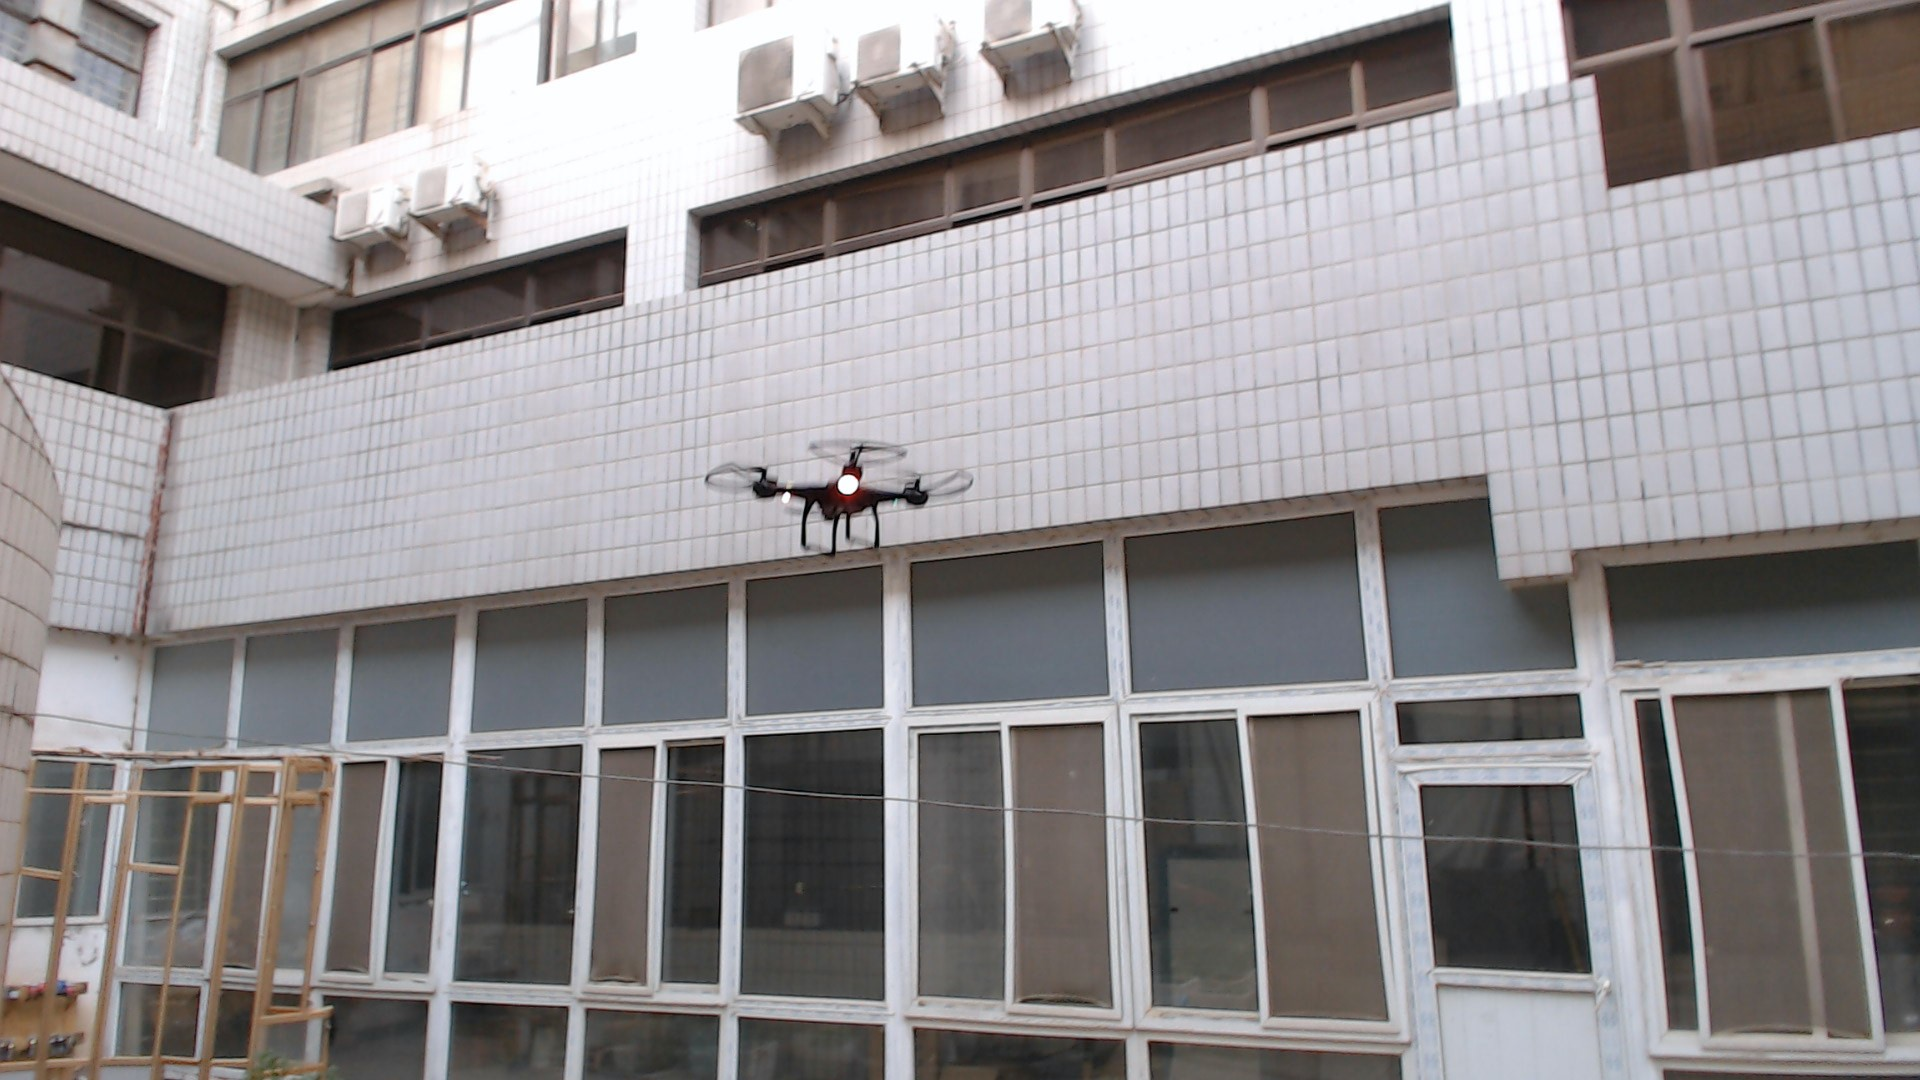drone: (699, 419, 990, 572)
